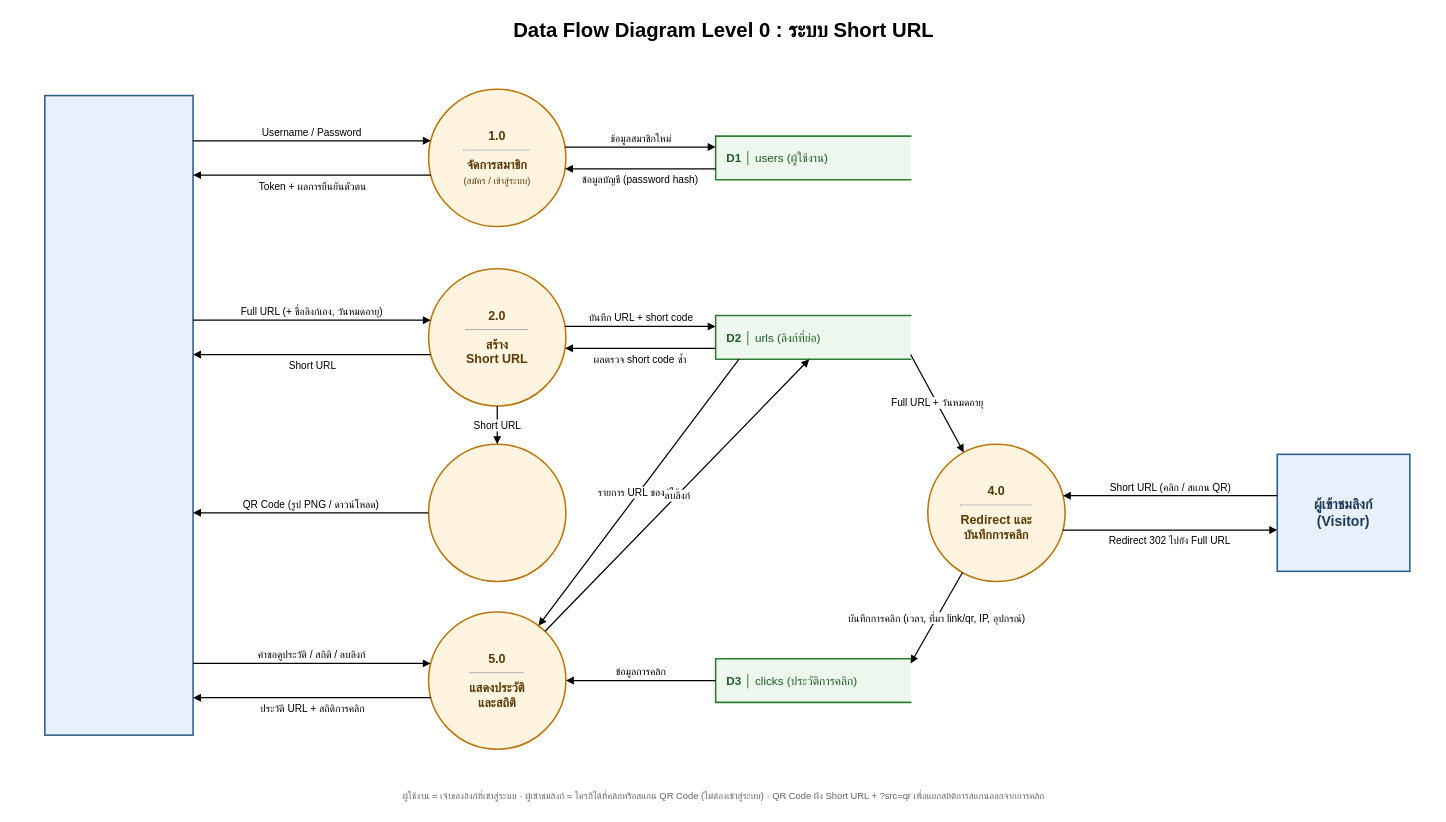
The diagram is 1446 pixels wide and 822 high, and some of its shapes have lost their labels. The centre of each missing label's shape, as x and y in pixels:
"3.0 สร้าง QR Code" goes at point (496, 512).
"ผู้ใช้งาน (User)" goes at point (118, 415).
